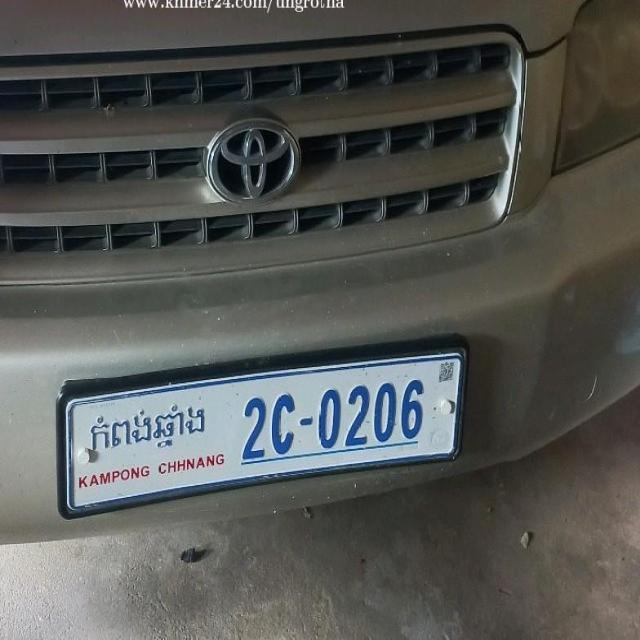Kampong_Chhnang: (90, 402, 206, 454)
